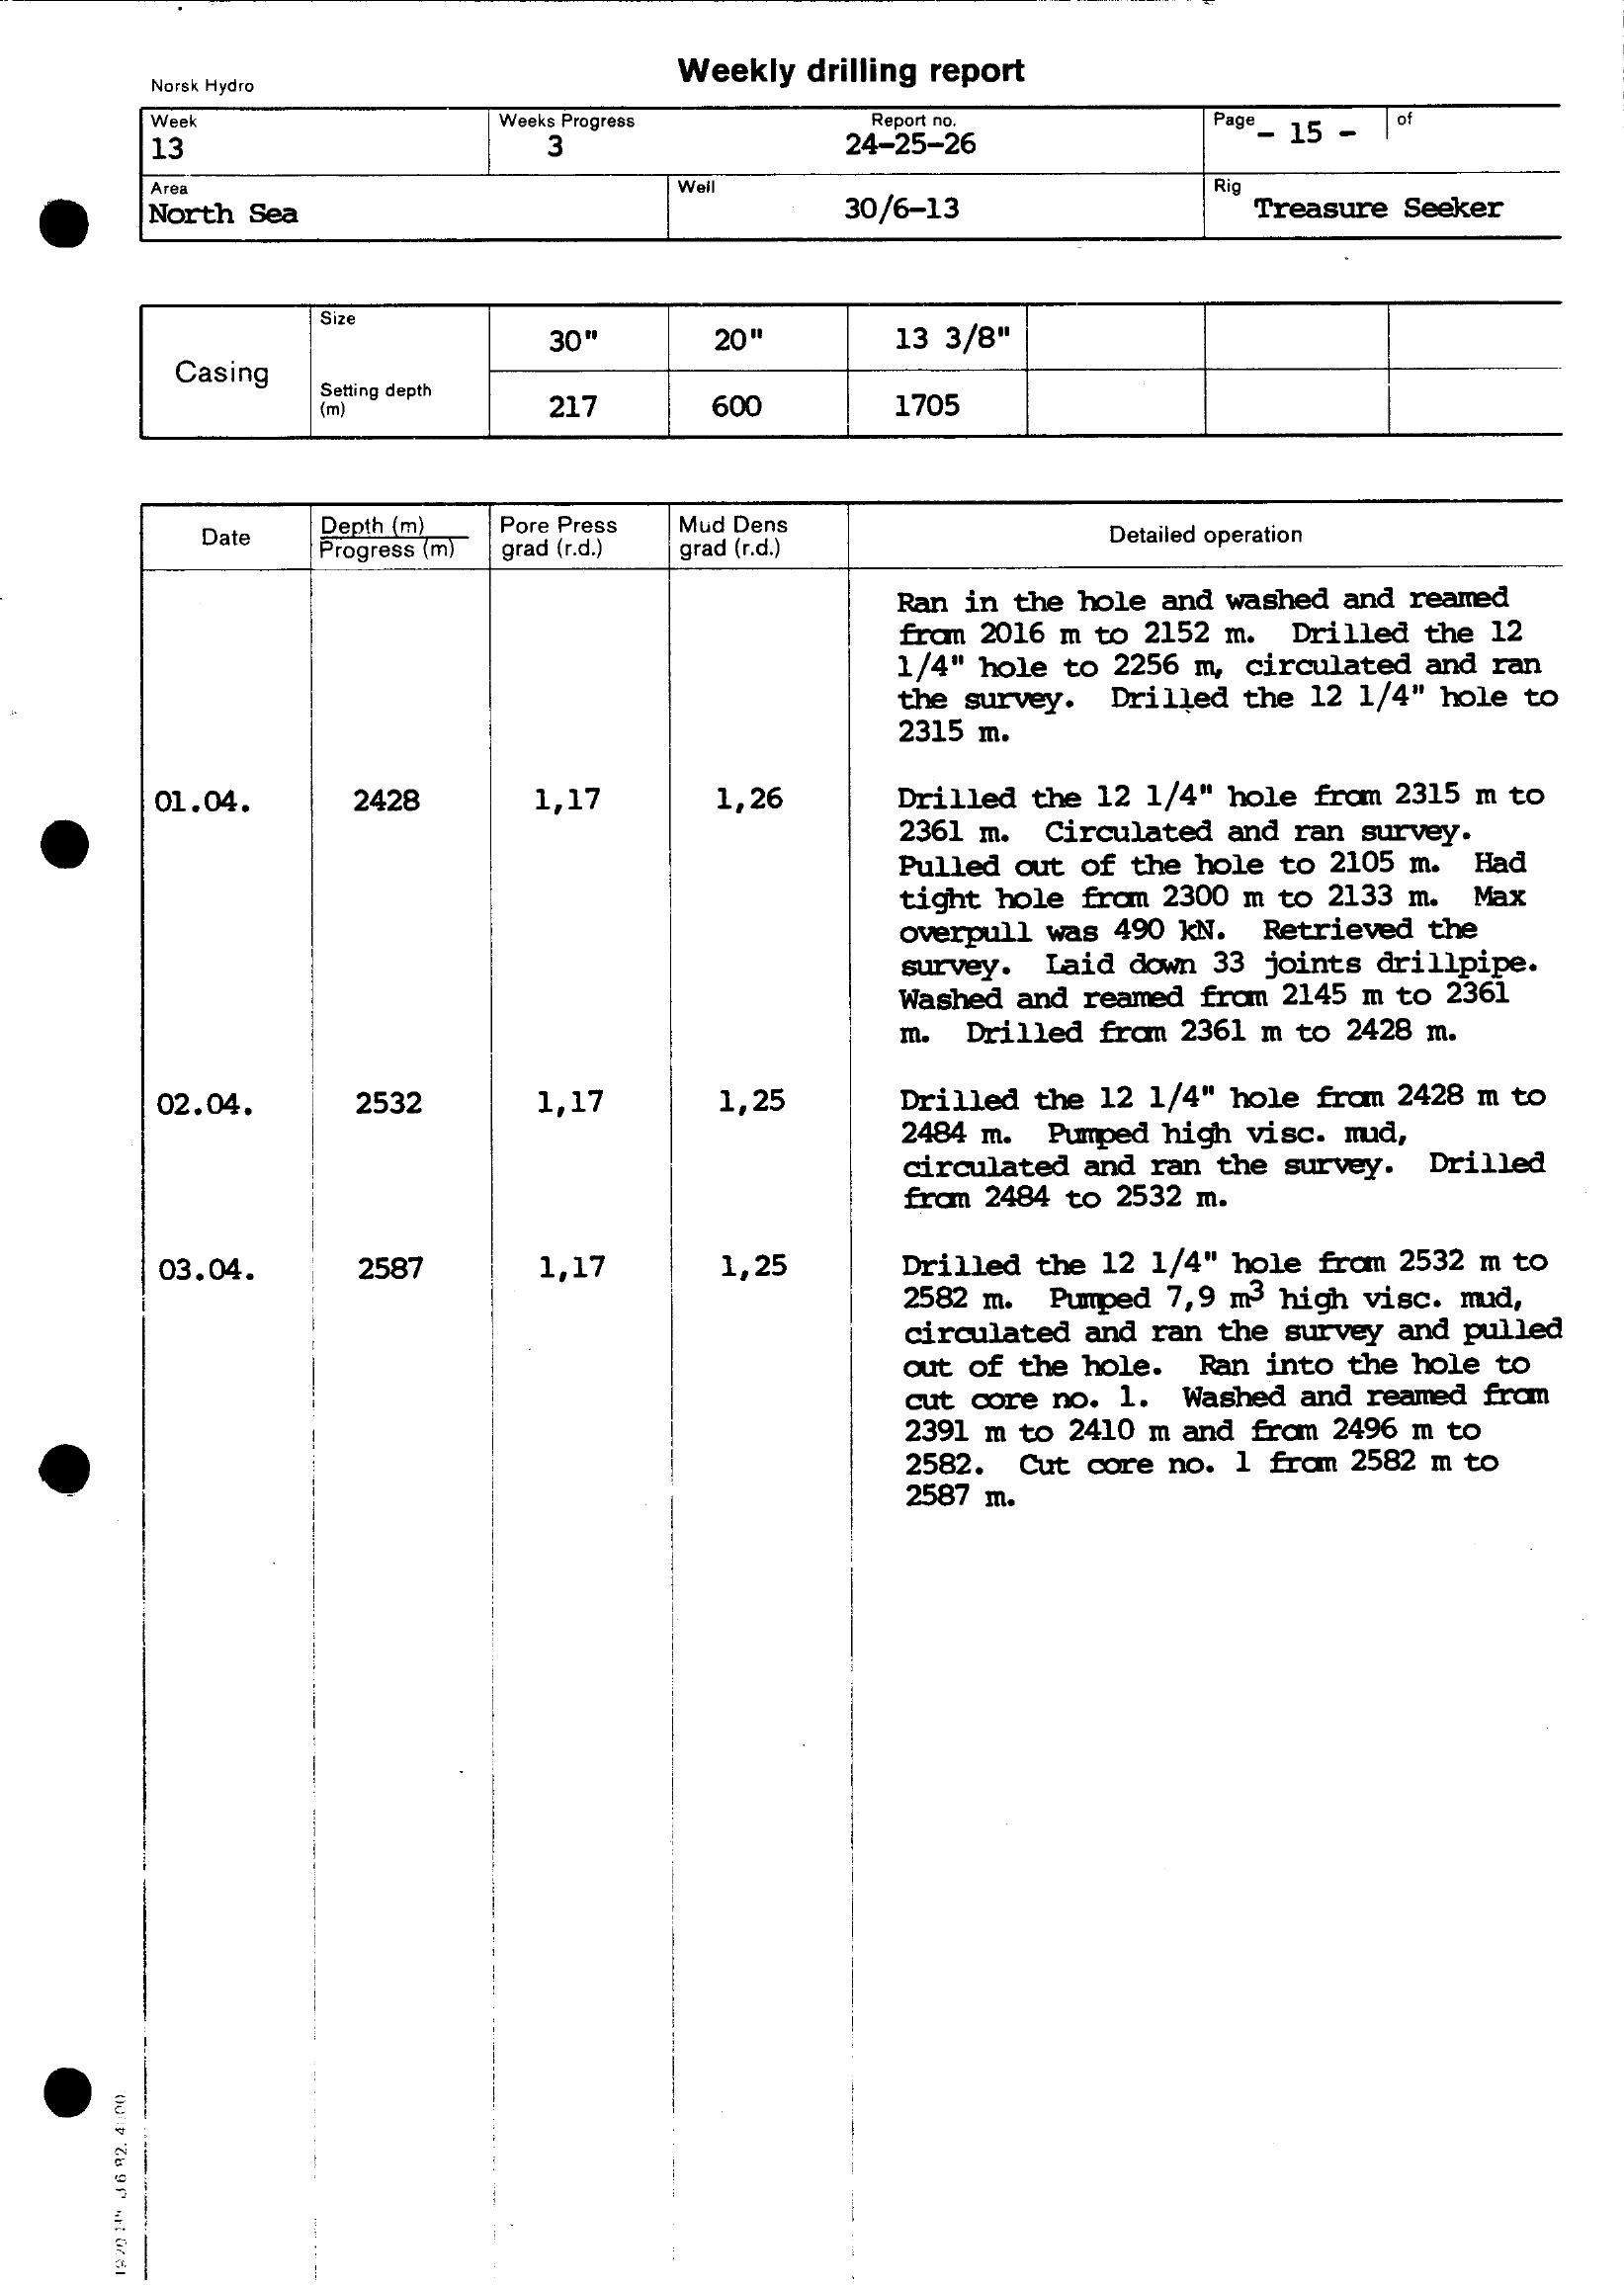graph: (123, 100, 1624, 1510)
text: (666, 49, 1048, 100)
